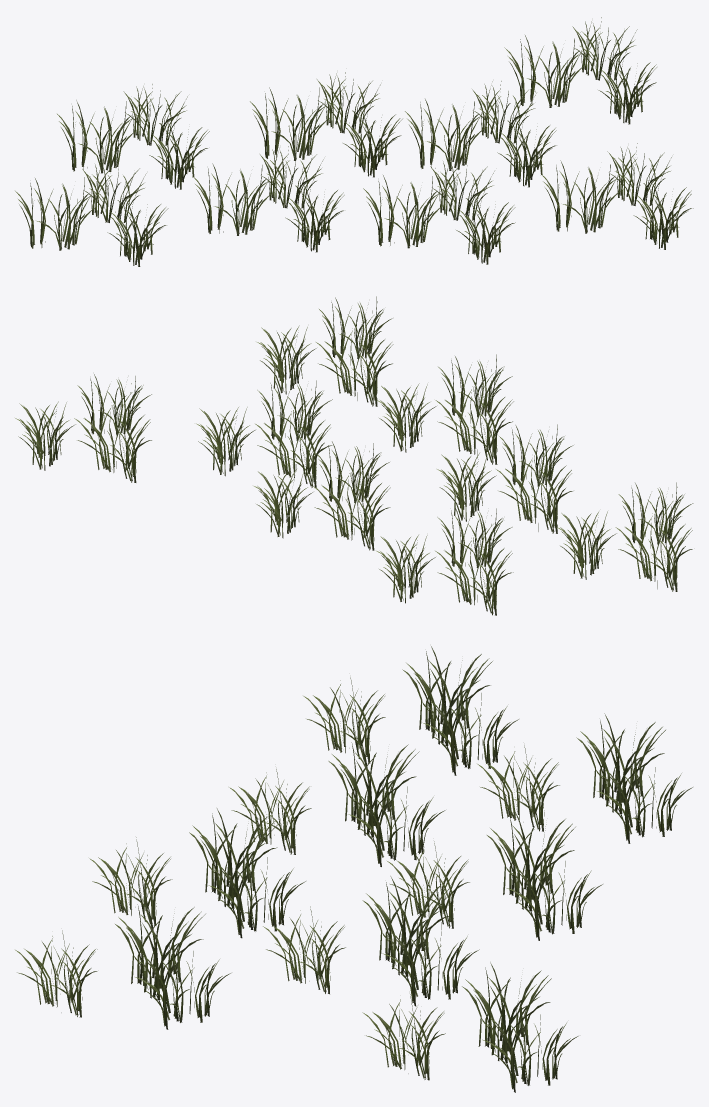
Rendered from zandi.fbx.
3 renders of one model, top to bottom at view 1: azimuth 30°, elevation 25°; view 2: azimuth 150°, elevation 25°; view 3: azimuth 270°, elevation 25°, orthographic. The views are drawn at different scales.
Visible parts, largest first — view 1: LV_Gnollando_Foliage_CityGrass02A_PM_KJH.017; view 2: LV_Gnollando_Foliage_CityGrass02A_PM_KJH.017; view 3: LV_Gnollando_Foliage_CityGrass02A_PM_KJH.017.
Part boxes in pixels (left/top/right/bottom): LV_Gnollando_Foliage_CityGrass02A_PM_KJH.017: left=15, top=17, right=693, bottom=266; LV_Gnollando_Foliage_CityGrass02A_PM_KJH.017: left=15, top=296, right=693, bottom=615; LV_Gnollando_Foliage_CityGrass02A_PM_KJH.017: left=15, top=646, right=692, bottom=1092.
Bounding box in the file's own units: 4.18 × 0.3788 × 3.04.
